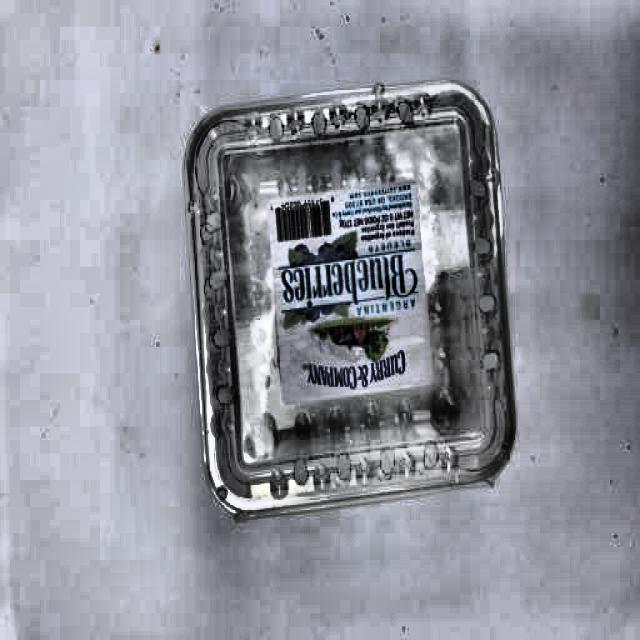plastic: (186, 83, 526, 520)
